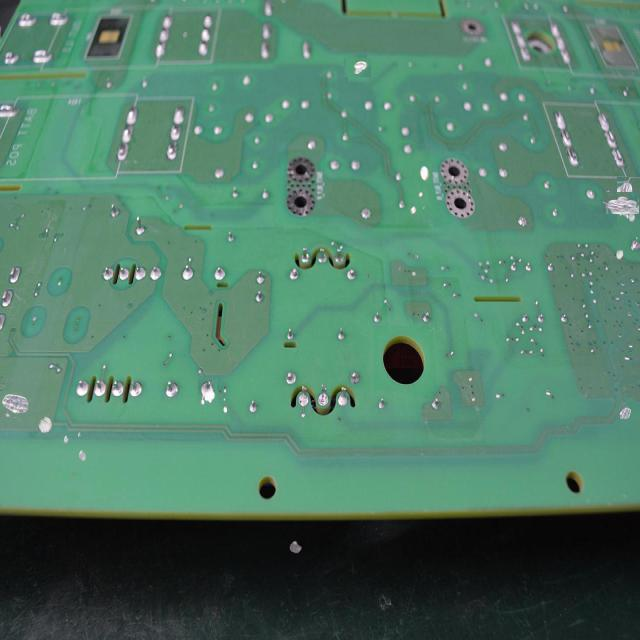spillover: (0, 385, 32, 422), (610, 184, 640, 220), (346, 56, 369, 80), (198, 379, 217, 405), (38, 412, 52, 443), (419, 161, 432, 181), (616, 403, 632, 419)
